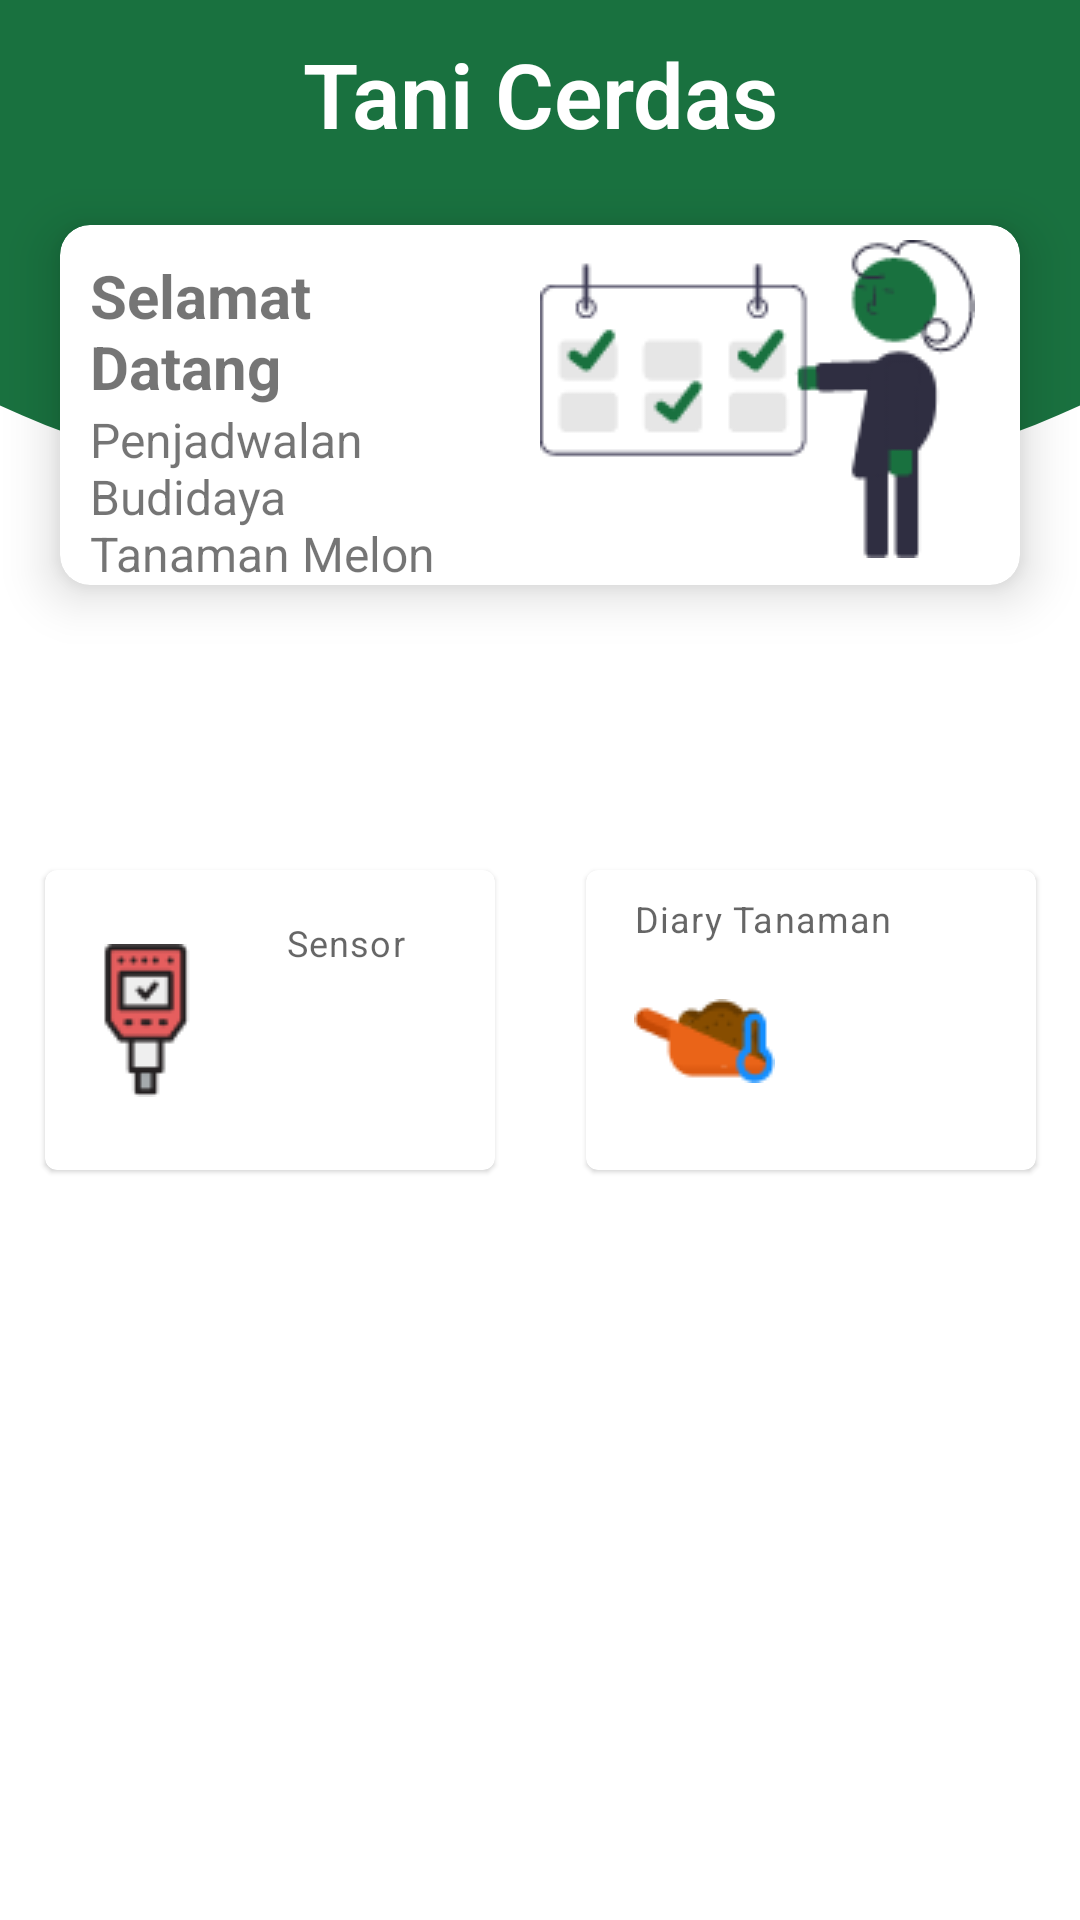

Icon click points for this 1080px x 1920px phone screenshot, format point (x, y):
lembab: point (704, 1041)
phtanah: point (146, 1020)
